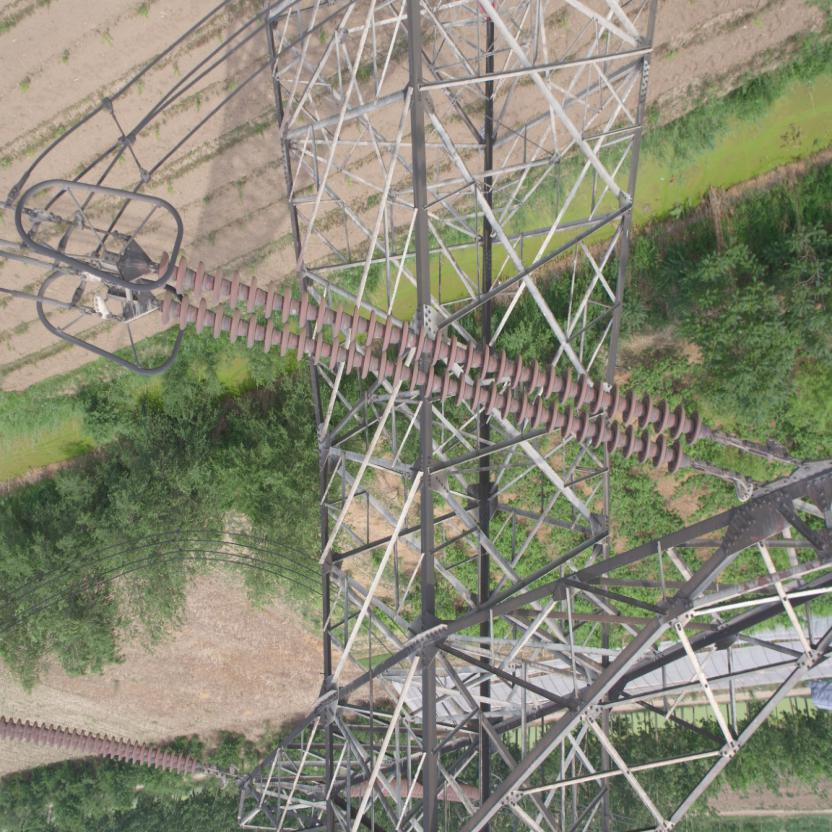insulator: (139, 250, 739, 482), (1, 720, 201, 778)
